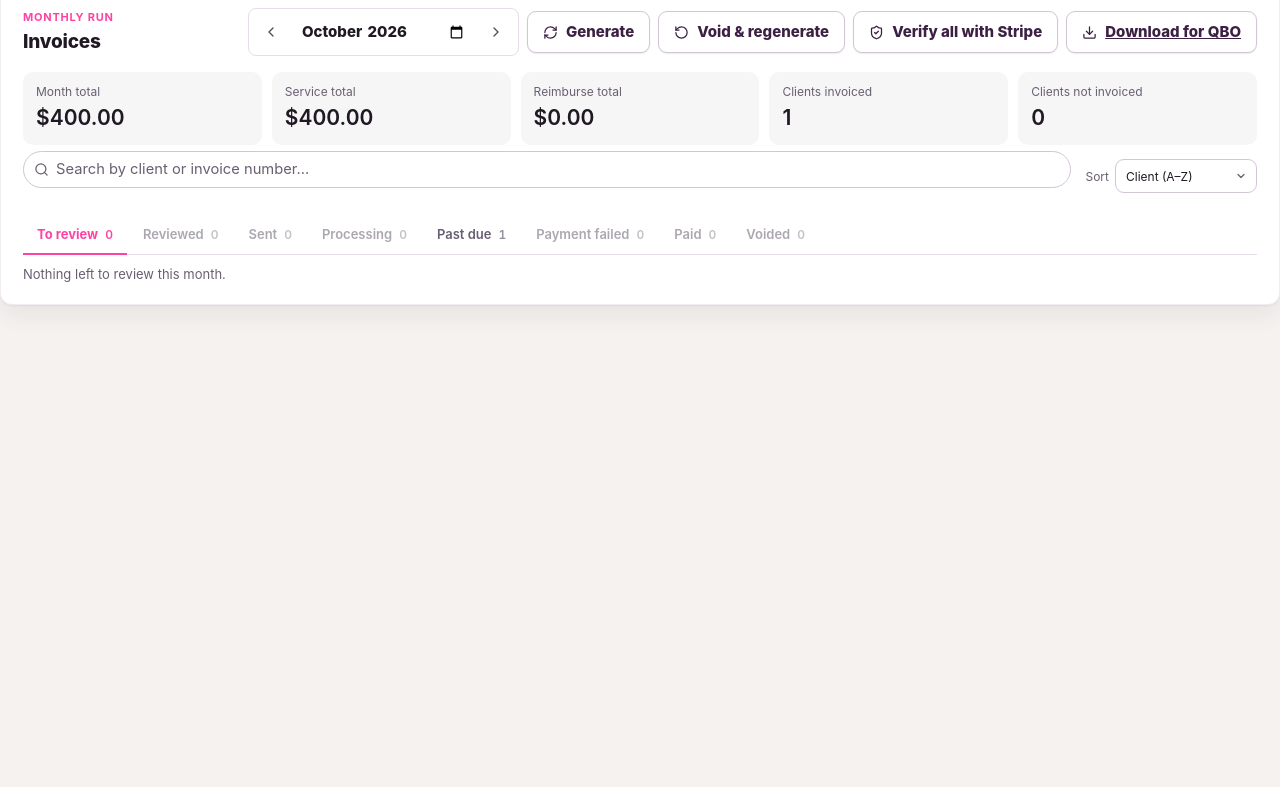
Test: the Past due tab › tells her what to do when the invoice is opened
Click the tab "Past due 1". click: (472, 236)
box: left=423, top=216, right=520, bottom=255
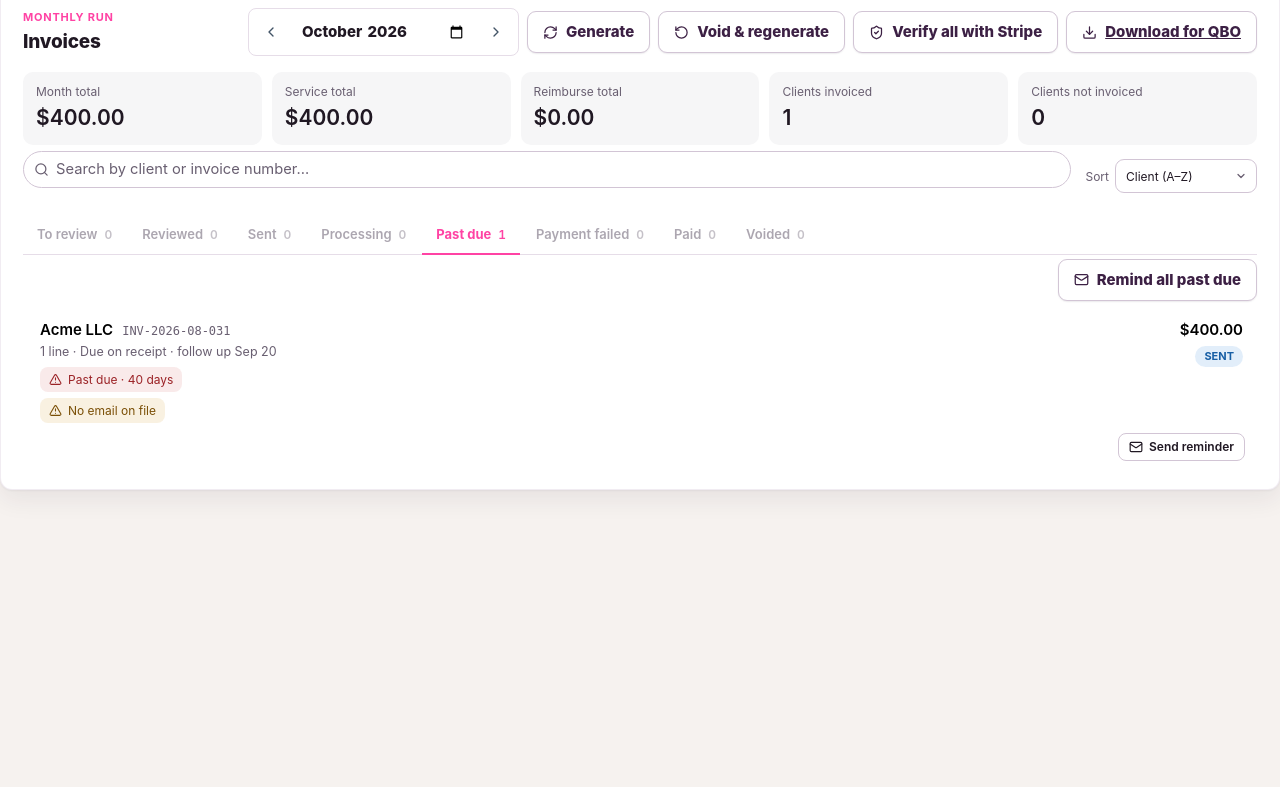
Click the text "INV-2026-08-031". click: (176, 332)
box: left=122, top=323, right=231, bottom=340
(page scrolled)
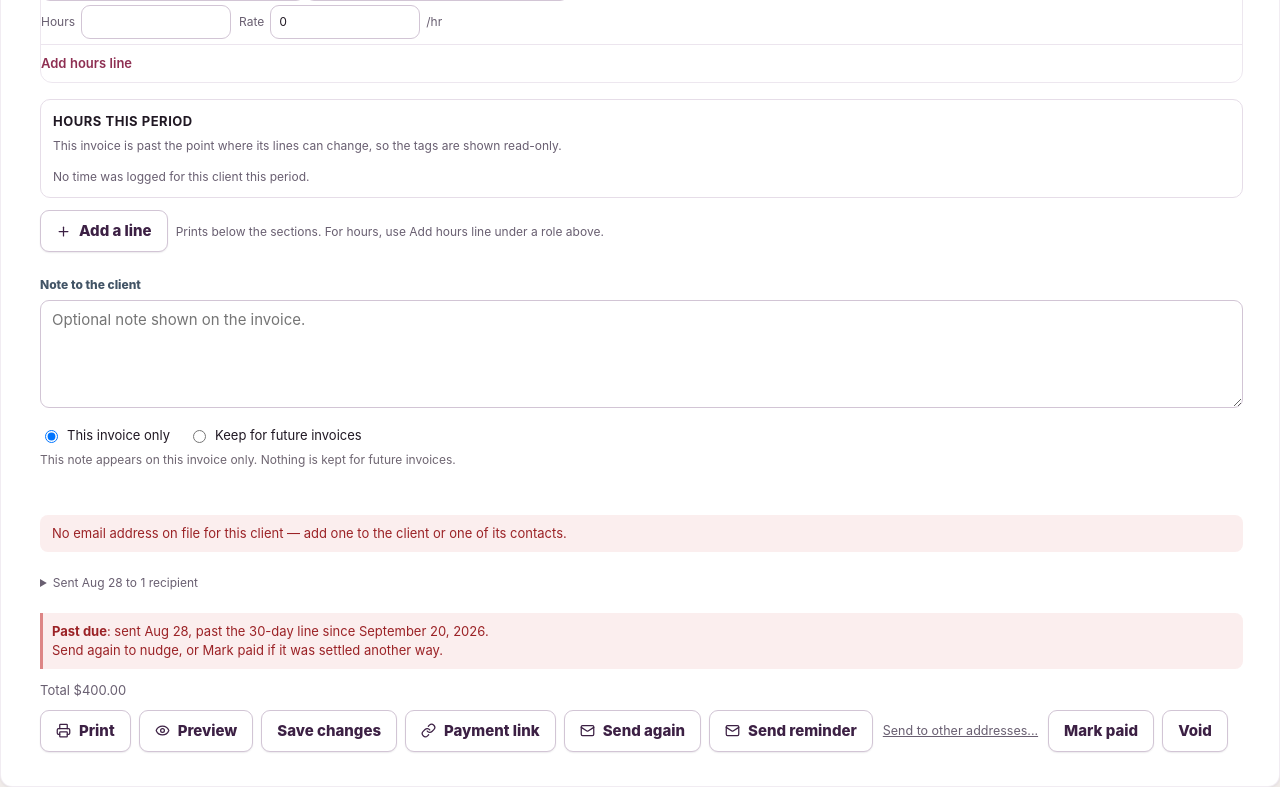
Now the text "past the 30-day line since" is shown, box left=40, top=613, right=1243, bottom=669
Now the text "past the 30-day line since" shows "Past due", box left=52, top=623, right=107, bottom=639
Now the text "past the 30-day line since" shows "Send again to nudge", box left=52, top=642, right=443, bottom=658
